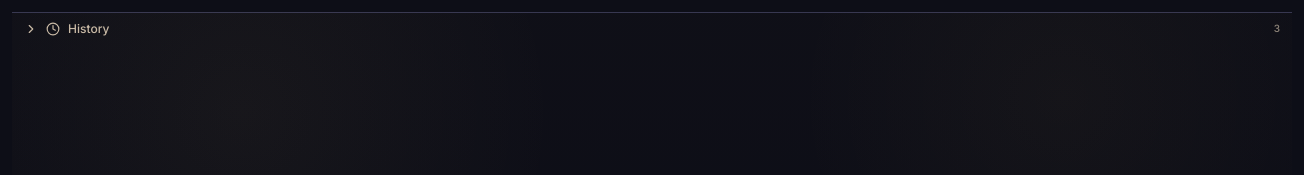
it: EntityHistoryPanel › expands when History button is clicked
Click the button "History 3": (89, 28) [12,13,1292,45]
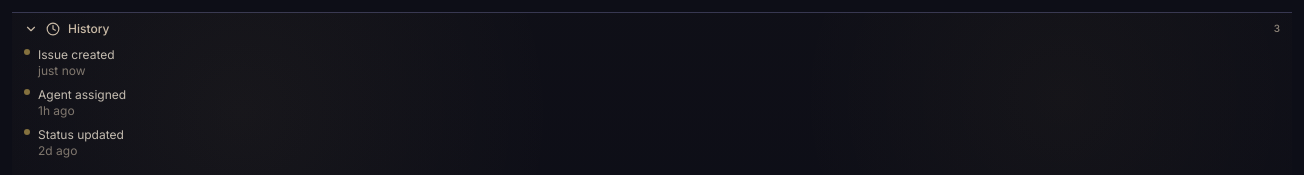
expect the text "Issue created" is shown: met, box [38,47,114,62]
expect the text "Agent assigned" is shown: met, box [38,87,126,102]
expect the text "Status updated" is shown: met, box [38,127,124,142]
